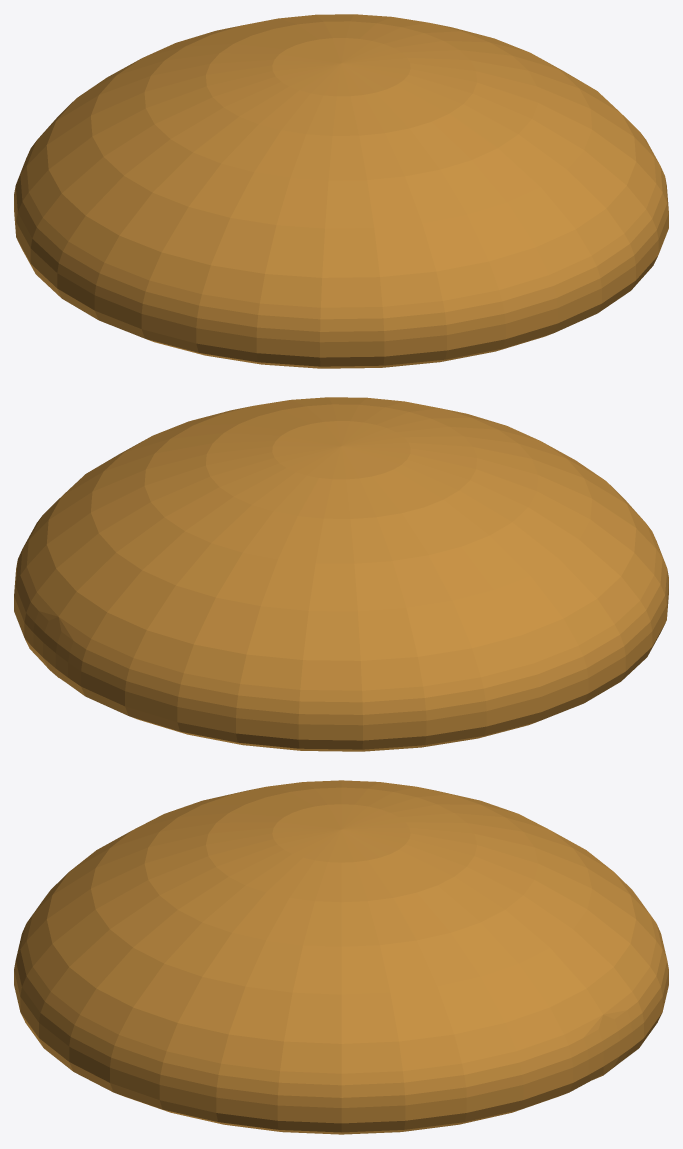
File: topBun.glb
The picture shows the model from 3 angles, top to bottom: view 1: azimuth 30°, elevation 25°; view 2: azimuth 150°, elevation 25°; view 3: azimuth 270°, elevation 25°; orthographic projection.
Visible parts, largest first — view 1: Sphere; view 2: Sphere; view 3: Sphere.
Part boxes in pixels (x1=…): Sphere: x1=14, y1=14, x2=668, y2=368; Sphere: x1=14, y1=397, x2=668, y2=751; Sphere: x1=14, y1=780, x2=668, y2=1134.
Size of the model in its own units: 2 by 0.6 by 2.
